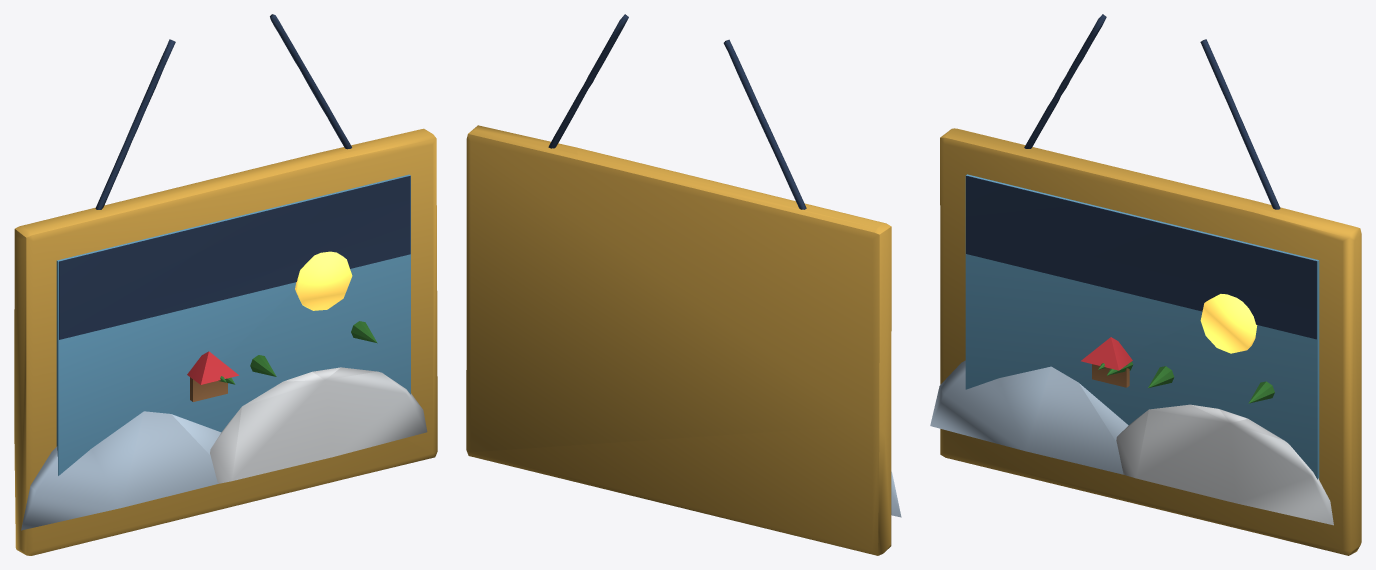
File: frost_picture_frame_lod2.glb
The picture shows the model from 3 angles, left to right: view 1: azimuth 30°, elevation 25°; view 2: azimuth 150°, elevation 25°; view 3: azimuth 330°, elevation 25°; orthographic projection.
Visible parts, largest first — view 1: frost_picture_frame.001; view 2: frost_picture_frame.001; view 3: frost_picture_frame.001.
Part boxes in pixels (x1,y1,x2,y2): frost_picture_frame.001: (14,14,437,555); frost_picture_frame.001: (466,14,901,555); frost_picture_frame.001: (930,14,1361,555).
Bounding box in the file's own units: 16.21 × 17.55 × 2.32.
